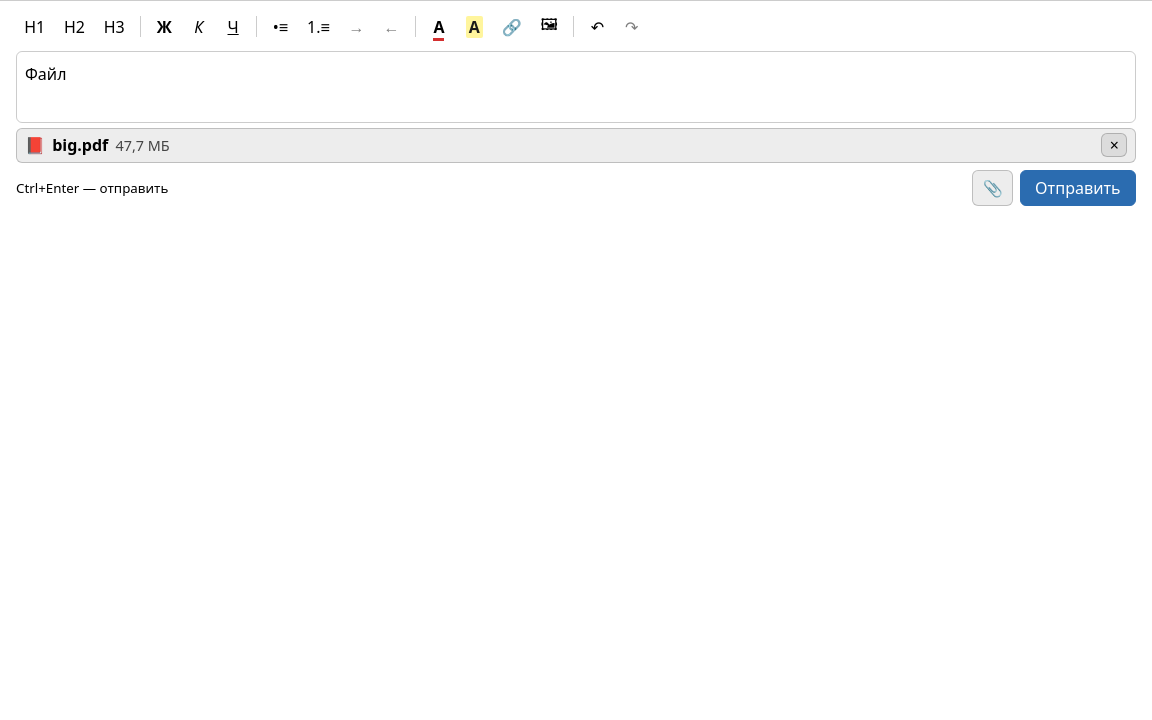
Test: composer (code review TS-1) › FR-268: in a synchronized discussion, members with a smaller limit are named before sending
Click the button with test id "send". click: click(1078, 188)
box: [1020,170,1136,206]
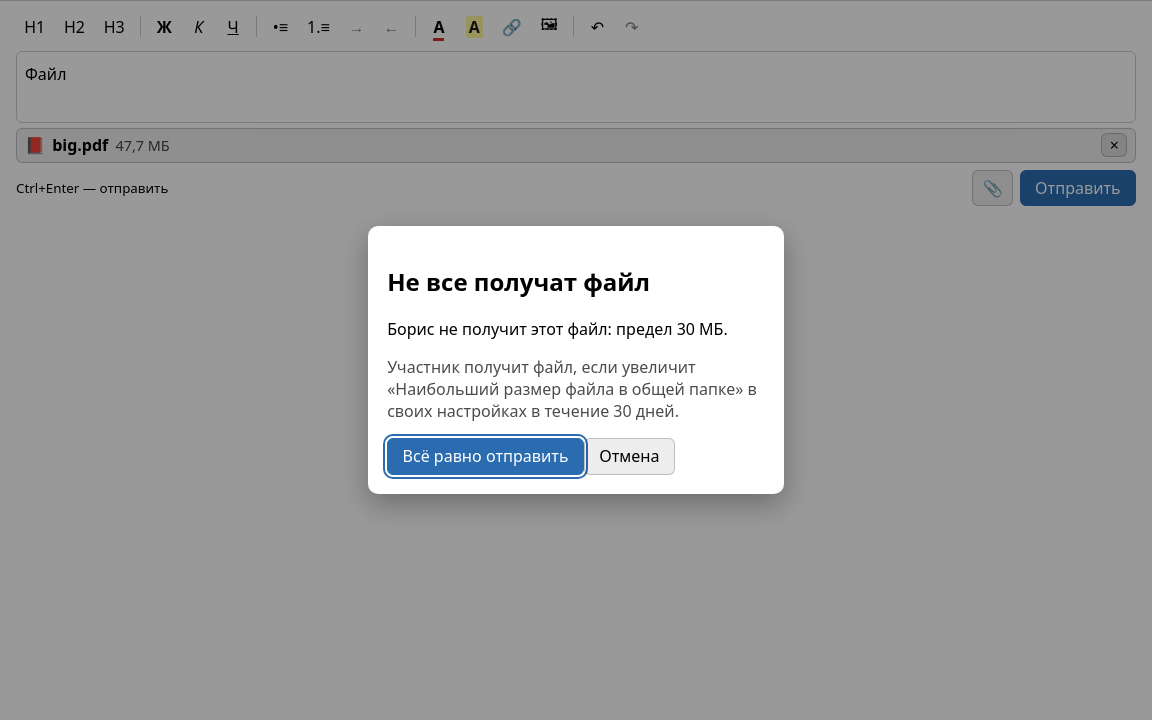
expect the dialog with test id "small-limits" is shown: met, box [368,226,784,494]
Click the button with test id "send-anyway". click: click(486, 456)
box: [387,438,584,475]
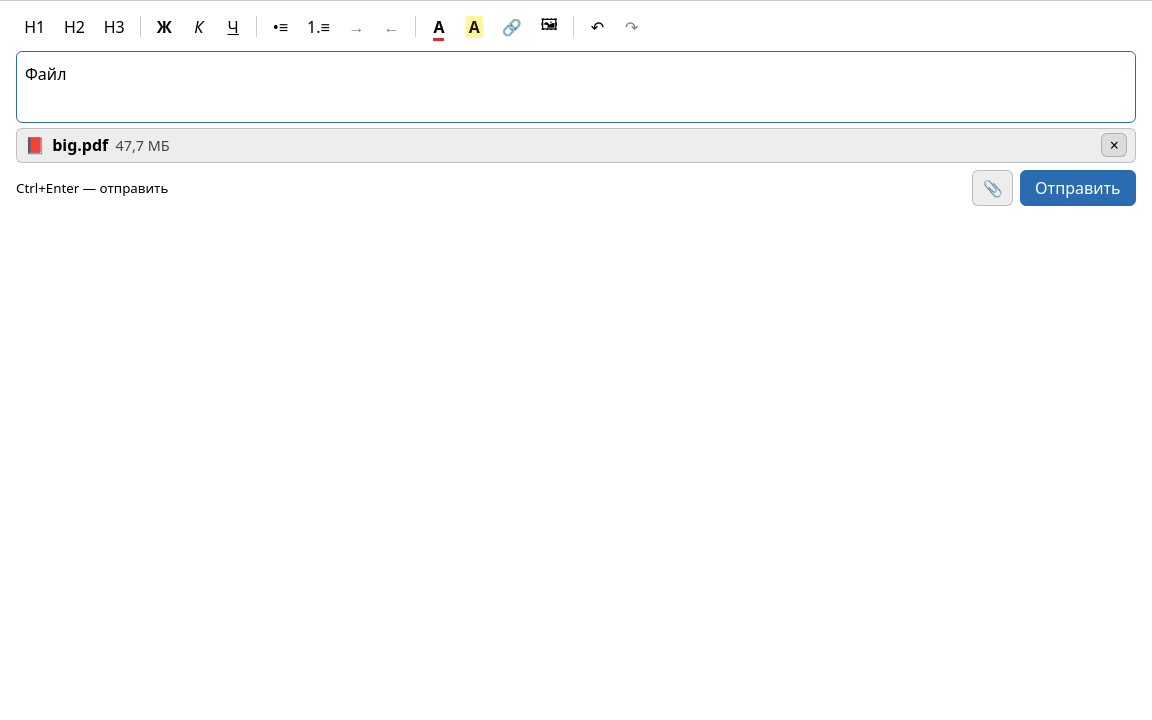
expect the dialog with test id "small-limits" is gone: met
